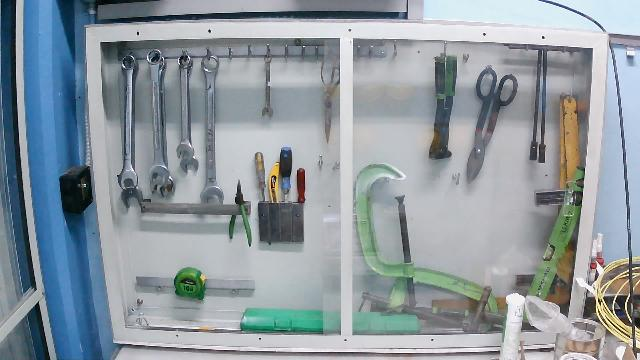tang_cucut_lancip_2: (225, 176, 255, 250)
